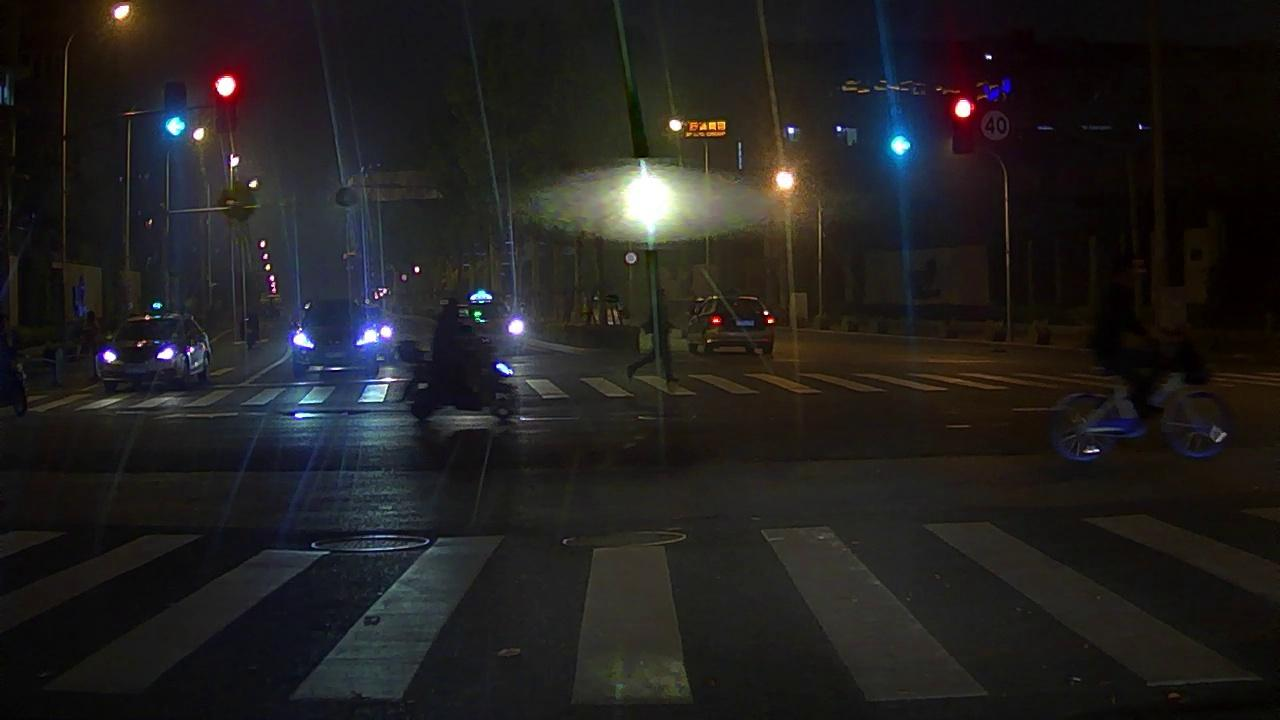traffic_light: (889, 106, 911, 160), (167, 82, 185, 138), (217, 76, 236, 129), (955, 99, 974, 152)
